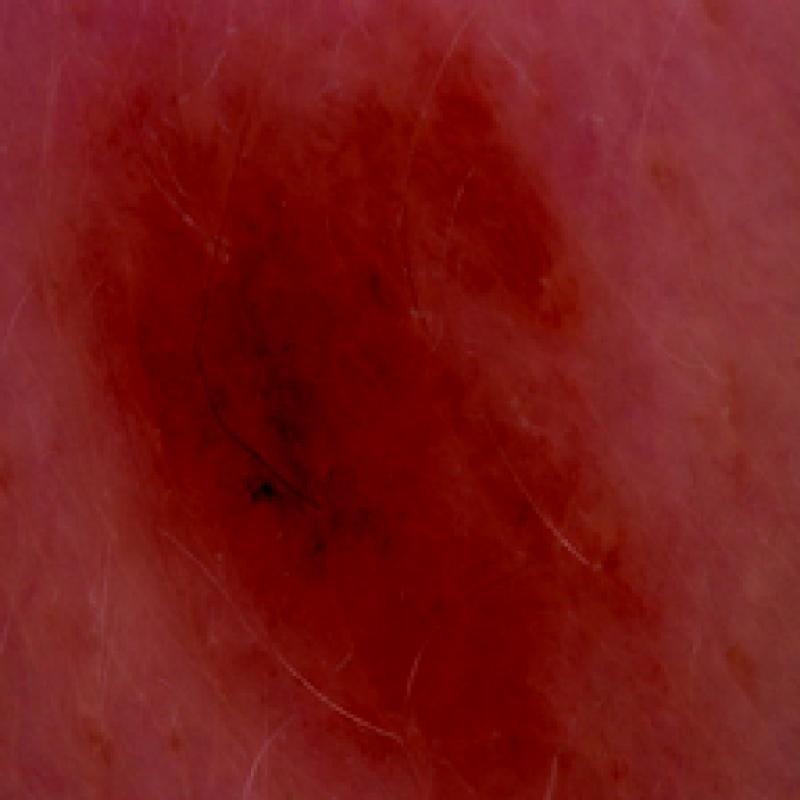benign: (93, 54, 638, 701)
